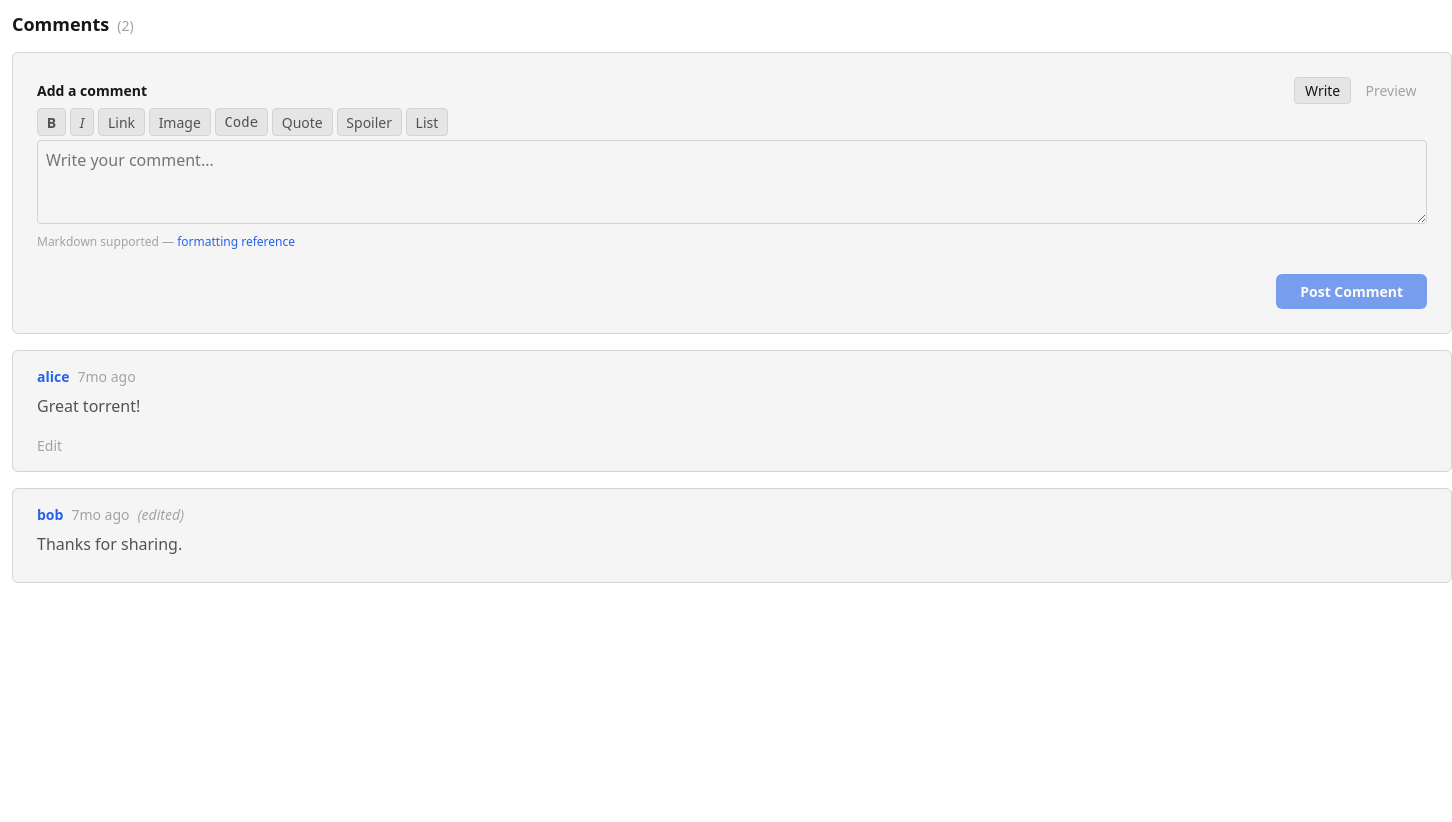
Test: CommentsSection › clicking edit shows textarea with comment body
expect the text "Great torrent!" is shown: met, box x1=37 y1=395 x2=140 y2=417
Click the button "Edit": (50,445) x1=37 y1=436 x2=62 y2=455
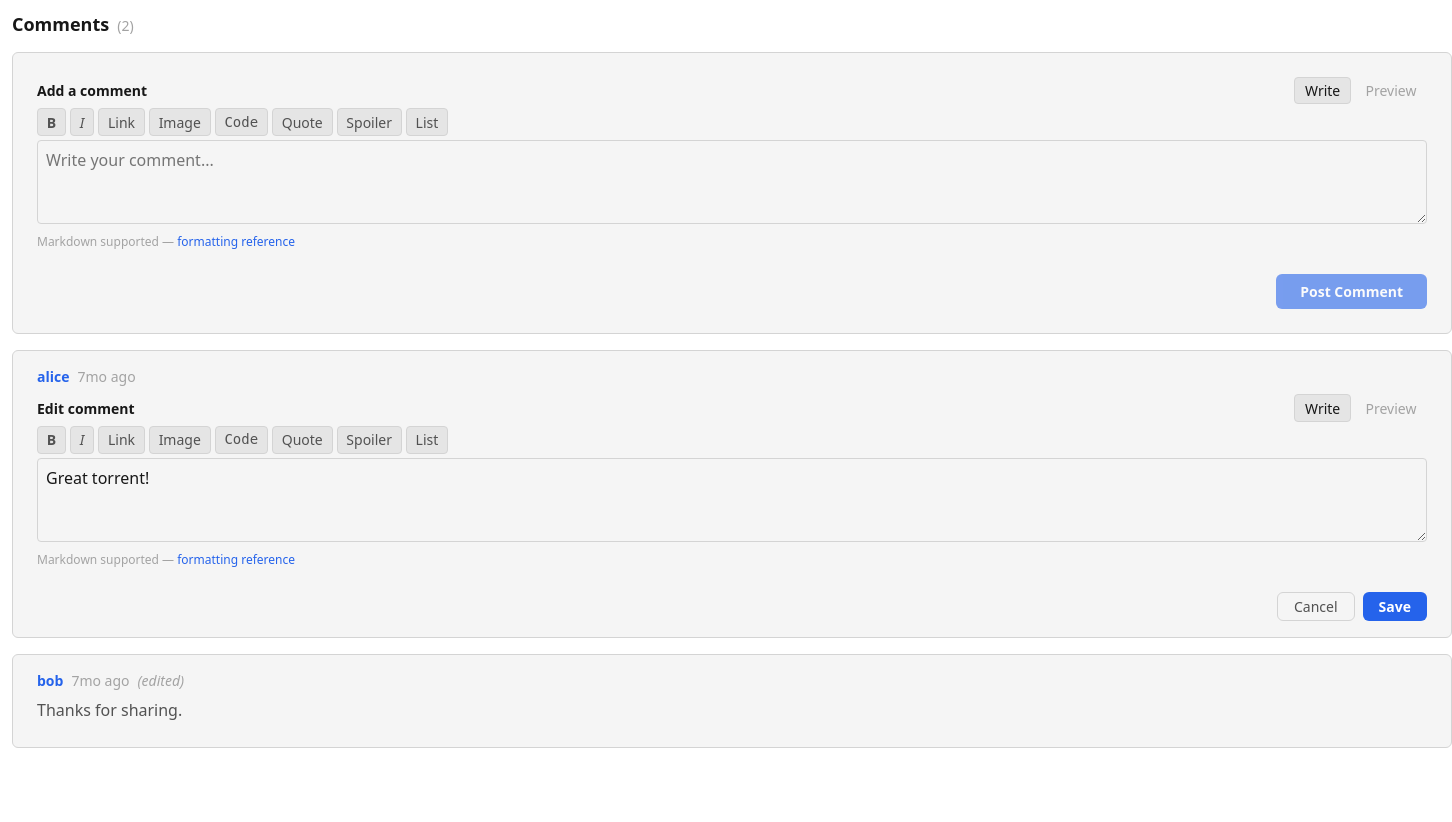
expect the text box showing "Great torrent!" is shown: met, box x1=37 y1=458 x2=1427 y2=542
